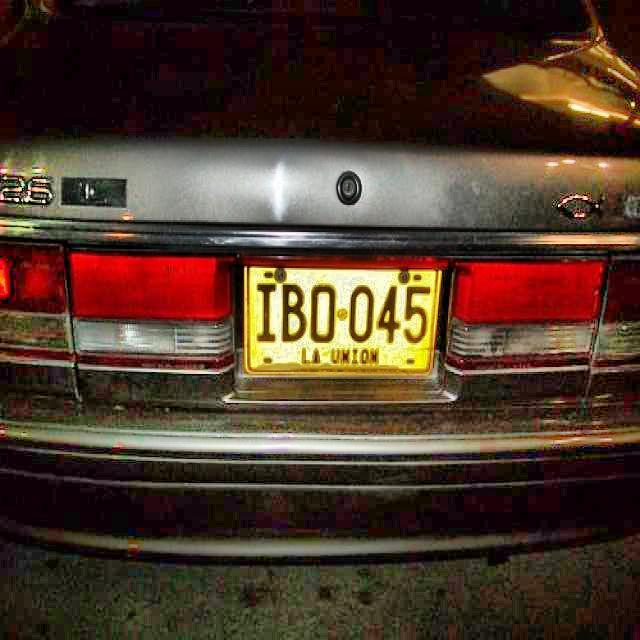plate: (246, 266, 438, 372)
